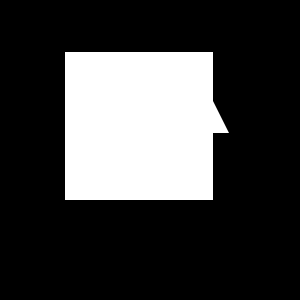circle: (65, 52, 213, 200)
triangle: (193, 97, 229, 133)
